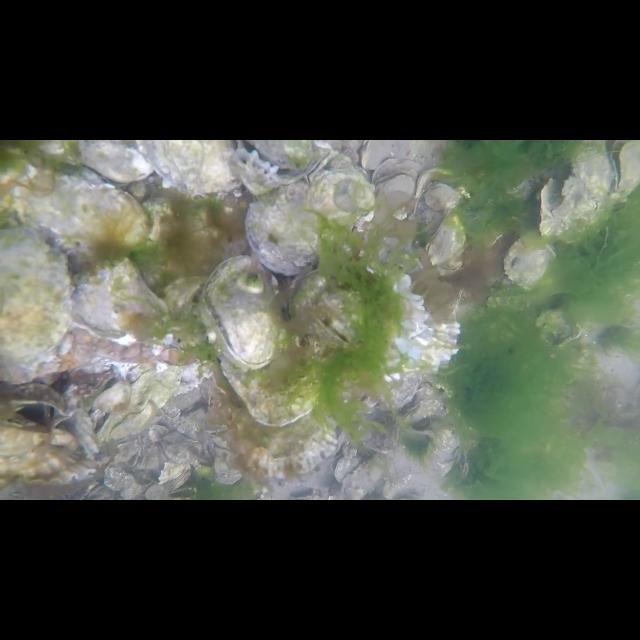Oyster-Closed: (290, 268, 460, 380), (216, 314, 324, 428), (224, 374, 338, 480), (0, 226, 74, 384), (12, 167, 150, 247), (70, 256, 170, 346), (540, 140, 612, 238), (98, 368, 180, 440), (1, 446, 98, 486), (504, 233, 558, 293), (0, 416, 76, 458), (424, 211, 464, 275), (354, 401, 402, 453), (338, 456, 388, 500), (413, 168, 459, 215), (214, 434, 242, 486), (380, 373, 420, 409)
Oyster-Open: (244, 166, 372, 278), (202, 255, 284, 372), (222, 140, 336, 194), (134, 140, 242, 194), (72, 140, 156, 188), (0, 382, 72, 430), (226, 147, 294, 197), (368, 168, 418, 212), (610, 140, 640, 198), (398, 398, 436, 426), (328, 453, 362, 483), (402, 417, 434, 438)
